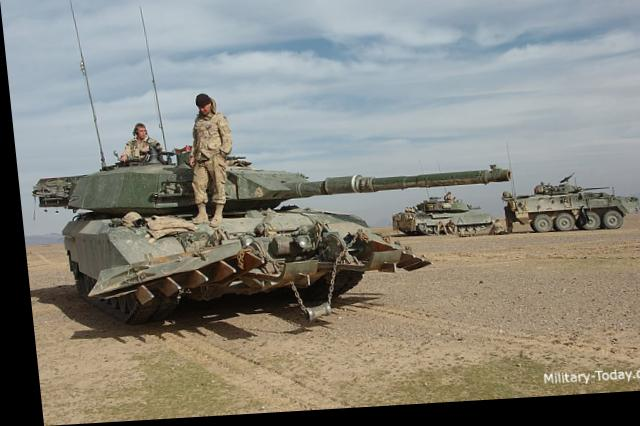tank: (62, 162, 355, 316)
